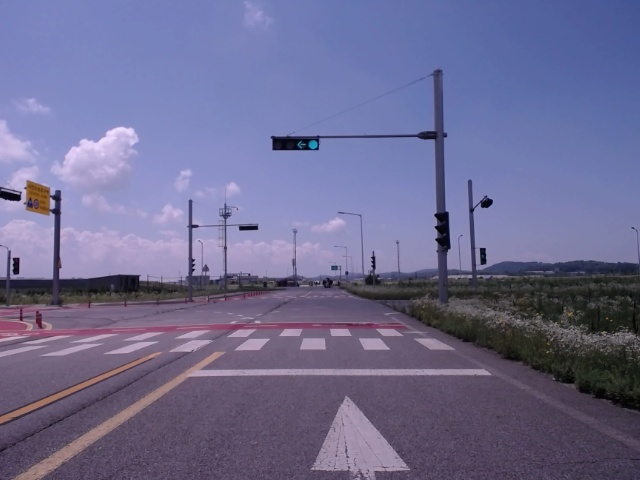all_green_4: (270, 137, 321, 149)
